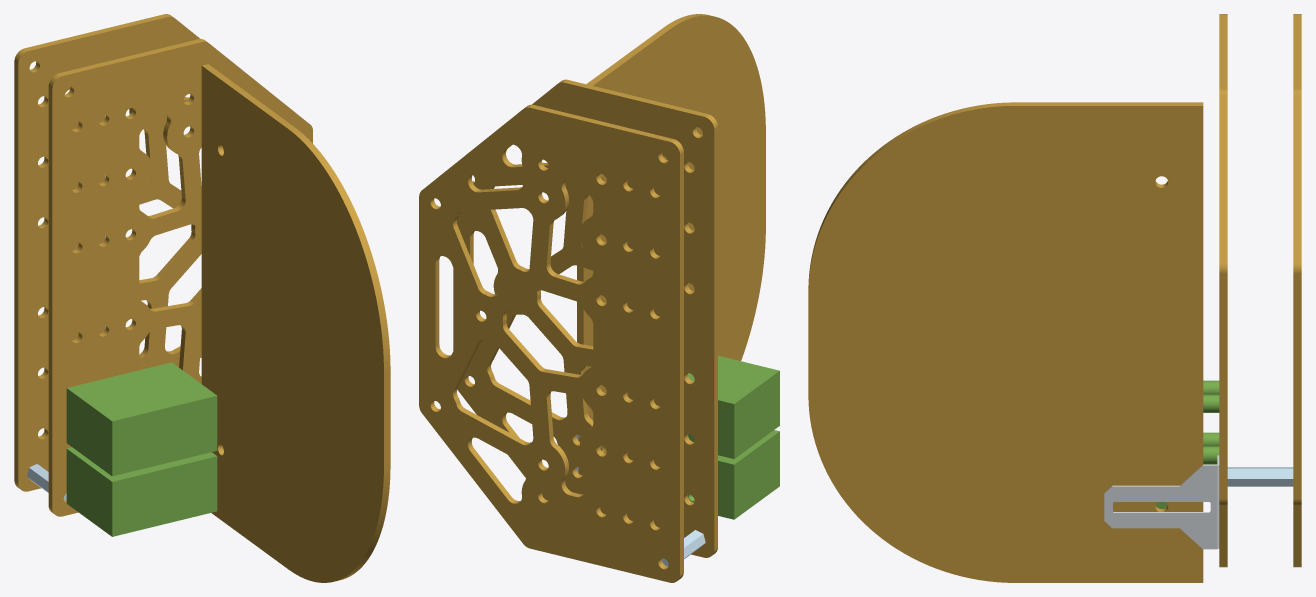
File: Assembly.gltf
3 views of the same model, side by side, from view 1: azimuth 30°, elevation 25°; view 2: azimuth 150°, elevation 25°; view 3: azimuth 270°, elevation 25° (orthographic). The views are drawn at different scales.
Visible parts, largest first — view 1: Part 2, Part 1 (×2), motor (×2); view 2: Part 1 (×2), Part 2, motor (×2); view 3: Part 2, Part 1 (×3), Angle Gusset (276-1110).
Boxes of the visible parts, <box> form: Part 2: <box>201,64,390,582</box>; Part 1 (×2): <box>14,14,312,516</box>; motor (×2): <box>66,362,217,536</box>; Part 1 (×2): <box>419,79,717,582</box>; Part 2: <box>577,14,765,475</box>; motor (×2): <box>688,355,779,519</box>; Part 2: <box>808,102,1203,582</box>; Part 1 (×3): <box>1219,14,1301,567</box>; Angle Gusset (276-1110): <box>1104,455,1219,549</box>.
Size of the model in its own units: 0.1264 by 0.2107 by 0.1904.
